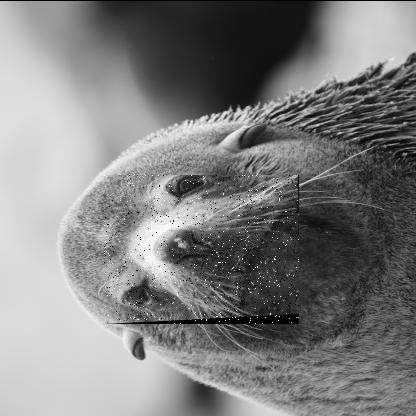face: (104, 173, 300, 323)
